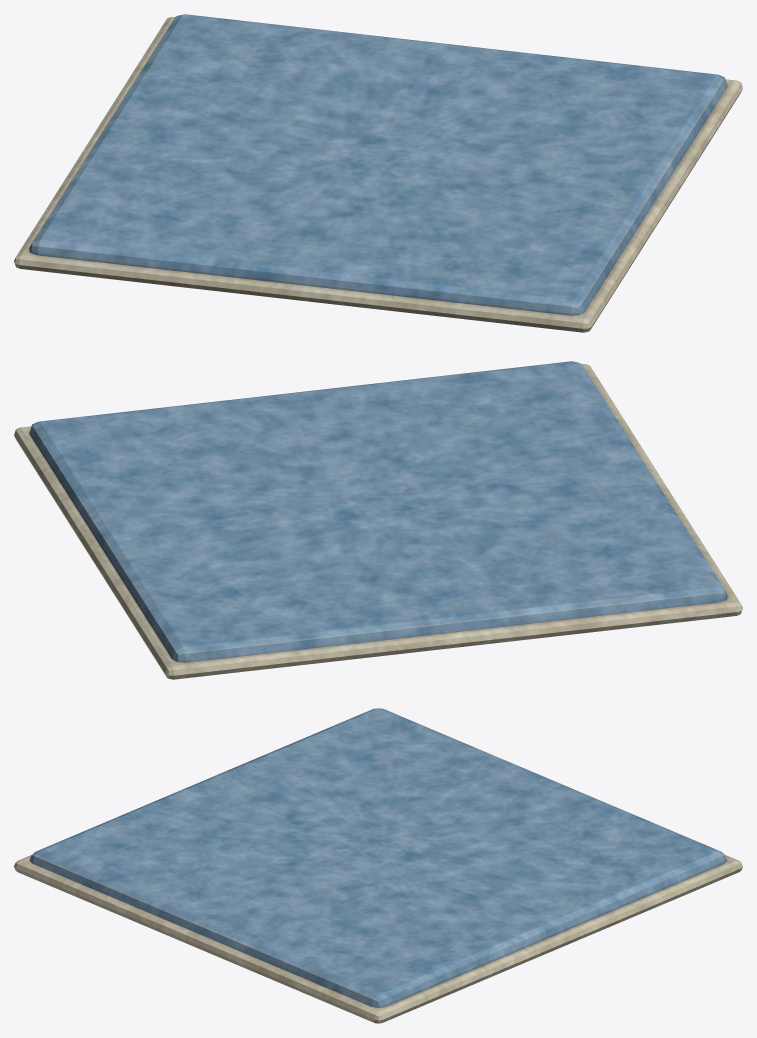
Rendered from water.glb.
3 renders of one model, top to bottom at view 1: azimuth 30°, elevation 25°; view 2: azimuth 150°, elevation 25°; view 3: azimuth 270°, elevation 25°, orthographic. The views are drawn at different scales.
Visible parts, largest first — view 1: dilek; view 2: dilek; view 3: dilek.
Part boxes in pixels (x1,y1,x2,y2): dilek: (14, 14, 742, 332); dilek: (14, 361, 742, 679); dilek: (14, 708, 742, 1023).
Size of the model in its own units: 2.53 by 0.08 by 2.53.
Materials: 1 (1 with a texture image).
